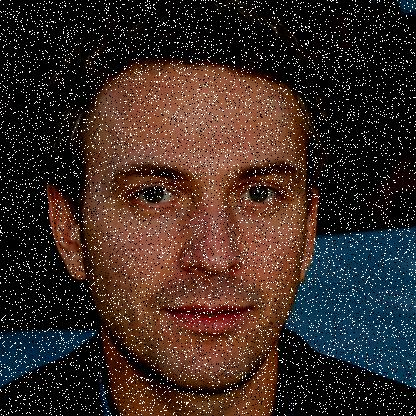eyeee: (125, 181, 187, 211), (231, 182, 292, 211)
mouthhz: (159, 300, 256, 336)
nosebb: (178, 196, 246, 277)
